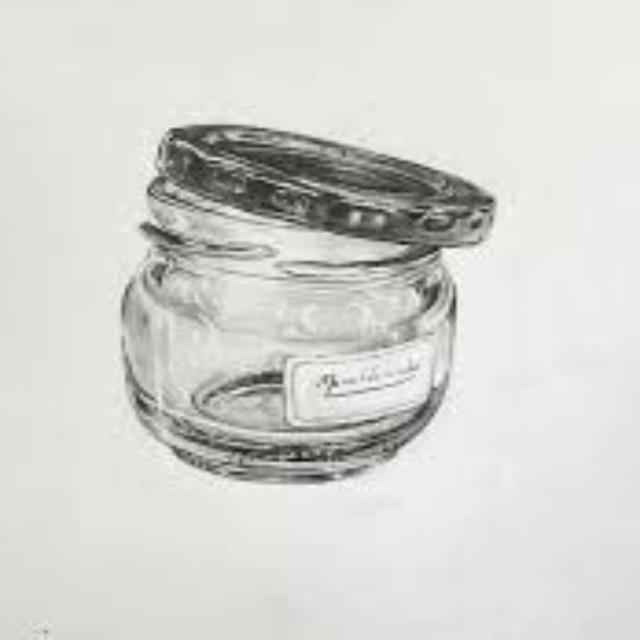recyclable: (116, 216, 470, 493)
